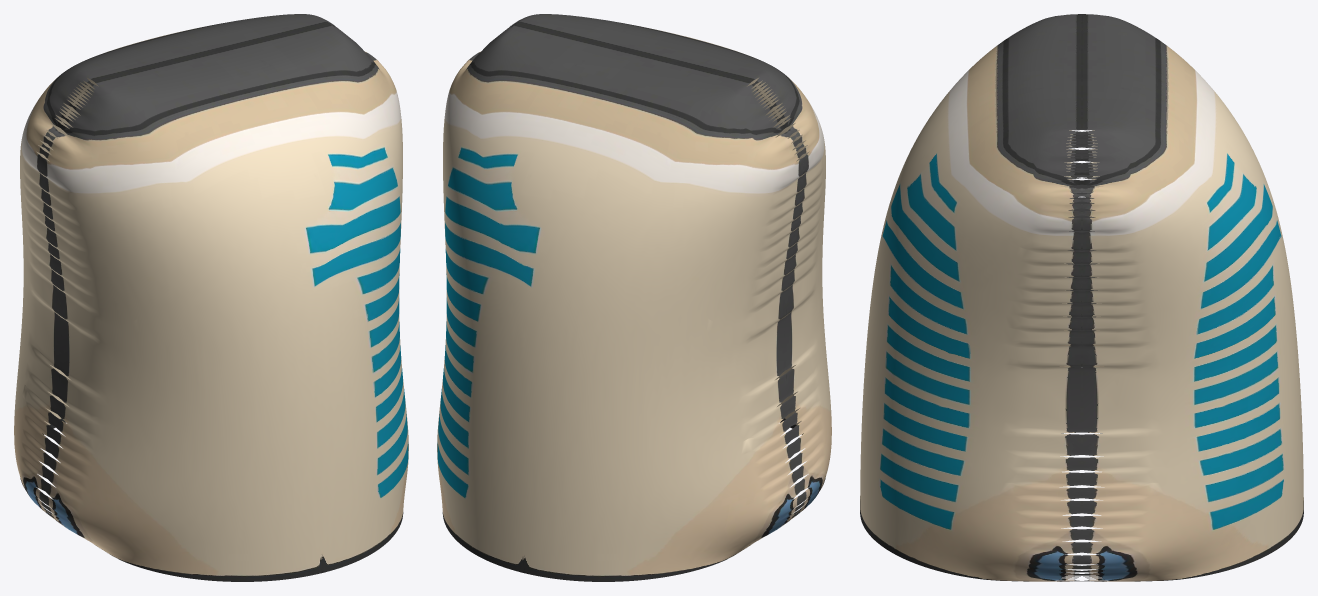
The model's file is service_cabinet.glb.
The picture shows the model from 3 angles, left to right: view 1: azimuth 30°, elevation 25°; view 2: azimuth 150°, elevation 25°; view 3: azimuth 270°, elevation 25°; orthographic projection.
Parts seen in each view (by area): view 1: service_cabinet; view 2: service_cabinet; view 3: service_cabinet.
Part boxes in pixels (x1,y1,x2,y2): service_cabinet: (14, 14, 408, 581); service_cabinet: (437, 14, 831, 581); service_cabinet: (860, 14, 1303, 581).
Bounding box in the file's own units: 0.9863 × 1.22 × 1.12.
Materials: 1 (1 with a texture image).
